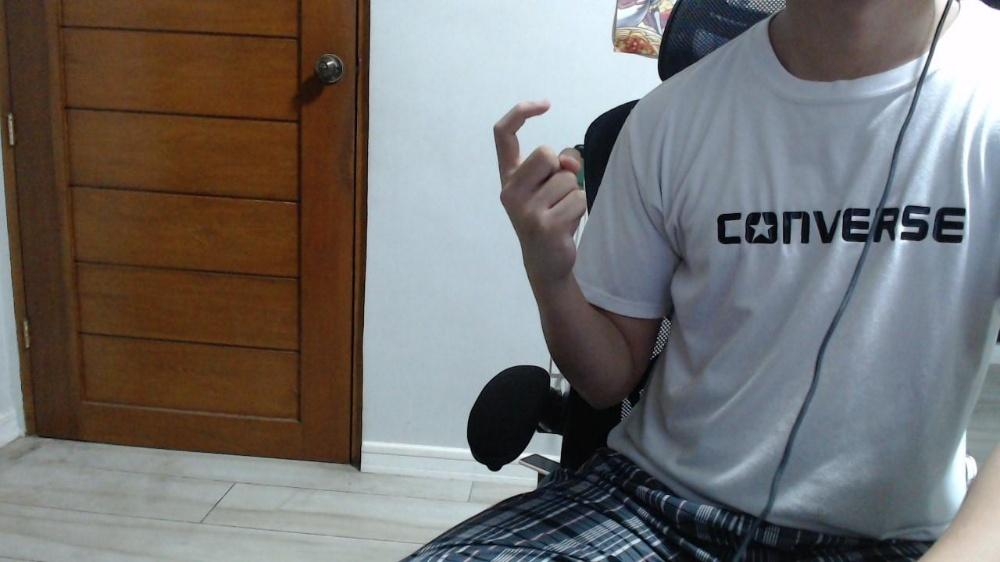x: (491, 97, 586, 278)
